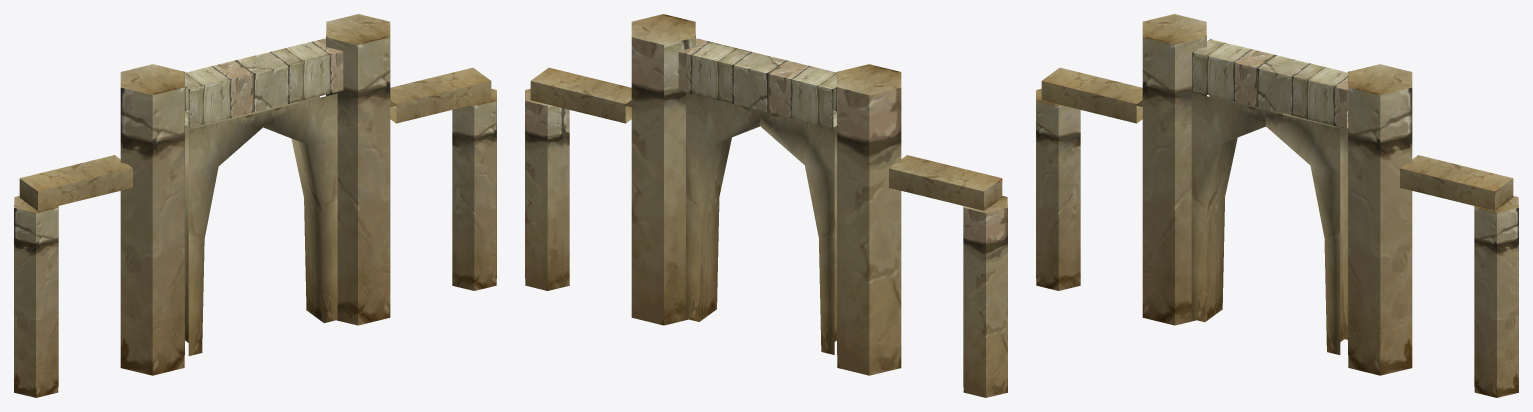
The model's file is shamo_gongmen_1.fbx.
The picture shows the model from 3 angles, left to right: view 1: azimuth 30°, elevation 25°; view 2: azimuth 150°, elevation 25°; view 3: azimuth 330°, elevation 25°; orthographic projection.
Visible parts, largest first — view 1: polySurface152, polySurface156, polySurface158, polySurface154, polySurface151, polySurface155, polySurface153, polySurface157; view 2: polySurface152, polySurface156, polySurface158, polySurface154, polySurface151, polySurface155, polySurface153, polySurface157; view 3: polySurface156, polySurface158, polySurface152, polySurface154, polySurface155, polySurface151, polySurface157, polySurface153.
Boxes of the visible parts, x1,y1,x2,y2 form: polySurface152: [120, 64, 184, 375]; polySurface156: [326, 14, 390, 325]; polySurface158: [185, 93, 337, 355]; polySurface154: [184, 38, 343, 128]; polySurface151: [14, 196, 58, 397]; polySurface155: [452, 88, 496, 290]; polySurface153: [19, 155, 132, 210]; polySurface157: [390, 67, 491, 123]; polySurface152: [837, 64, 901, 375]; polySurface156: [631, 14, 695, 325]; polySurface158: [686, 92, 836, 354]; polySurface154: [678, 38, 837, 128]; polySurface151: [963, 196, 1007, 397]; polySurface155: [525, 88, 569, 290]; polySurface153: [889, 155, 1002, 210]; polySurface157: [530, 67, 631, 123]; polySurface156: [1348, 64, 1412, 375]; polySurface158: [1191, 92, 1347, 354]; polySurface152: [1142, 14, 1206, 325]; polySurface154: [1192, 39, 1348, 128]; polySurface155: [1474, 196, 1518, 397]; polySurface151: [1036, 88, 1080, 290]; polySurface157: [1400, 155, 1513, 210]; polySurface153: [1041, 67, 1142, 123].
Size of the model in its own units: 20.49 by 11.38 by 2.33.
